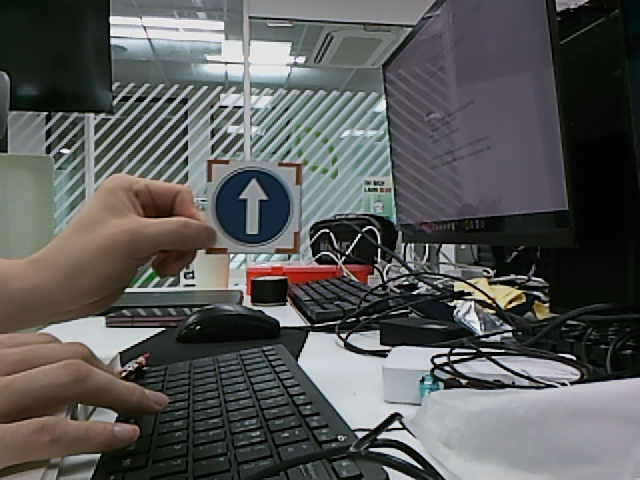go: (211, 168, 294, 247)
